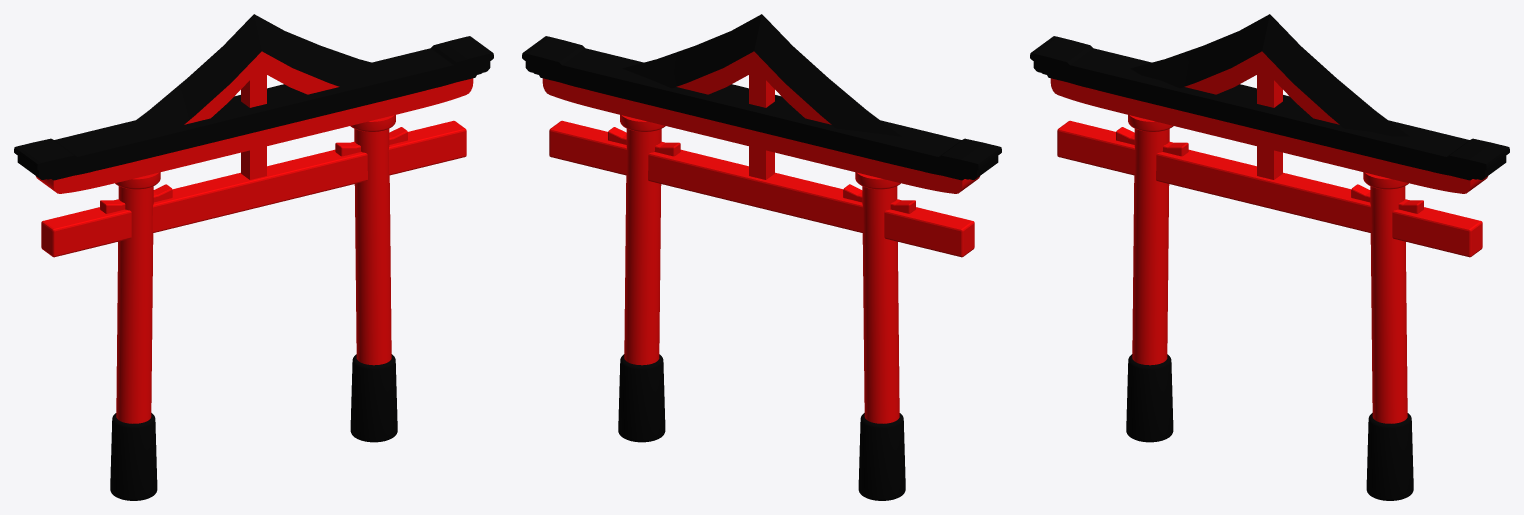
File: Torii_Gate.fbx
The picture shows the model from 3 angles, left to right: view 1: azimuth 30°, elevation 25°; view 2: azimuth 150°, elevation 25°; view 3: azimuth 330°, elevation 25°; orthographic projection.
Visible parts, largest first — view 1: Torii_Gate; view 2: Torii_Gate; view 3: Torii_Gate.
Part boxes in pixels (bbox=[...]): Torii_Gate: bbox=[14, 14, 493, 500]; Torii_Gate: bbox=[522, 14, 1001, 500]; Torii_Gate: bbox=[1030, 14, 1509, 500].
Bounding box in the file's own units: 534 × 502 × 49.63.
